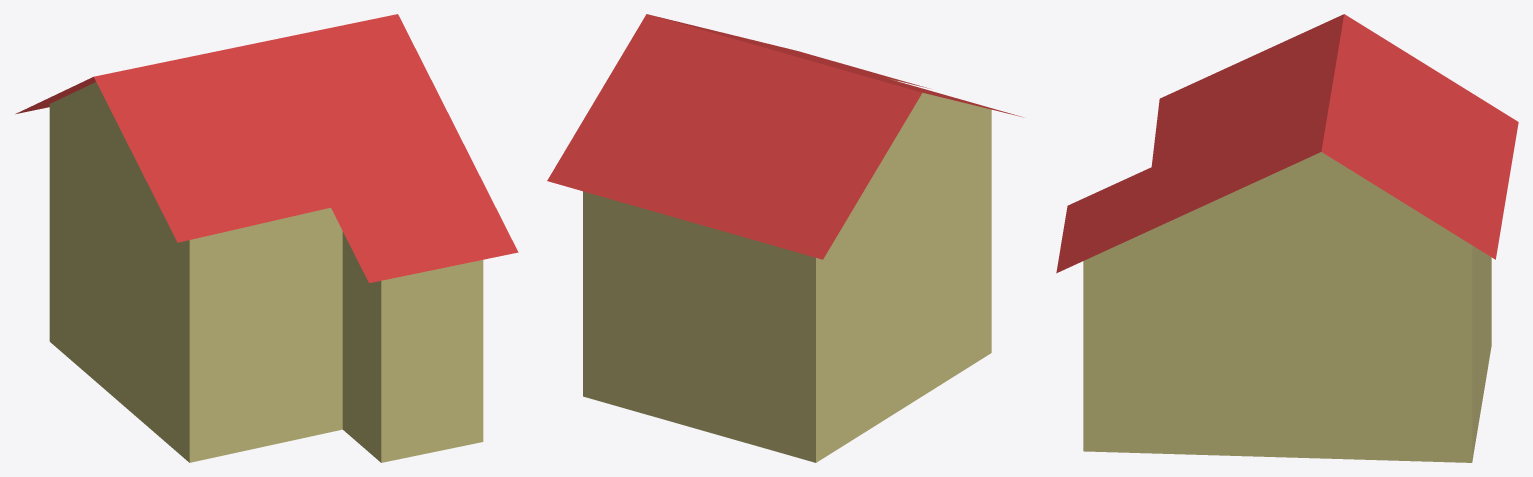
The picture shows the model from 3 angles, left to right: view 1: azimuth 30°, elevation 25°; view 2: azimuth 150°, elevation 25°; view 3: azimuth 270°, elevation 25°; orthographic projection. The views are drawn at different scales.
Bounding box in the file's own units: 10.37 × 13.64 × 10.33.
